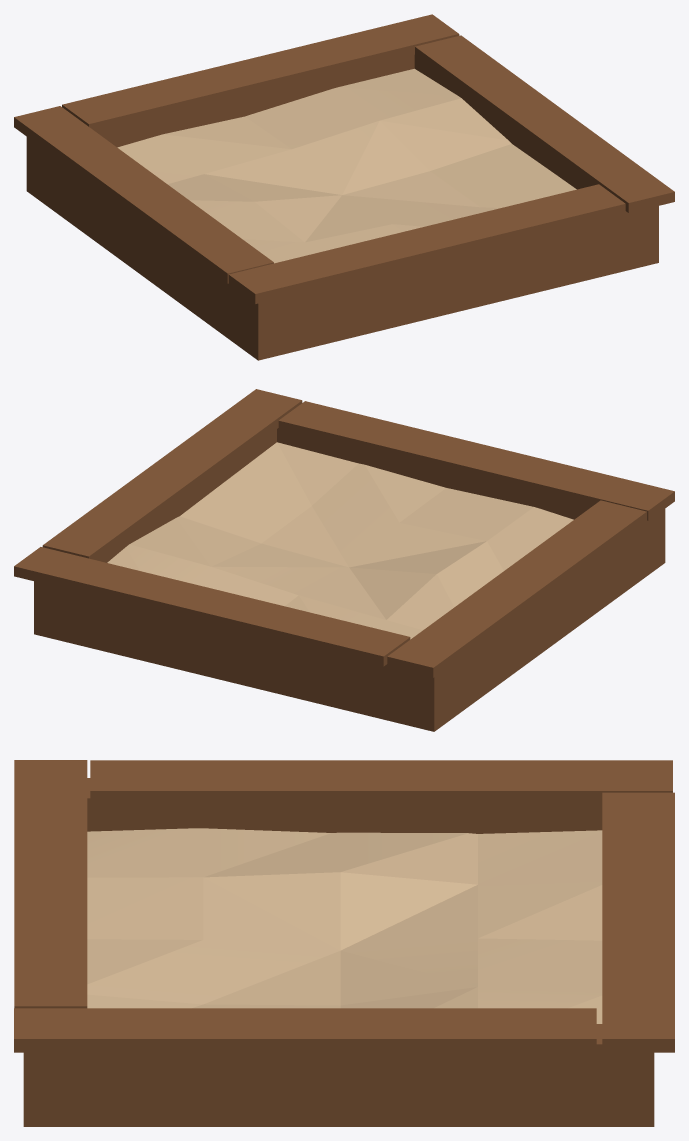
Rendered from props_sand-box.fbx.
3 renders of one model, top to bottom at view 1: azimuth 30°, elevation 25°; view 2: azimuth 150°, elevation 25°; view 3: azimuth 270°, elevation 25°, orthographic. The views are drawn at different scales.
Visible parts, largest first — view 1: props_sand_box; view 2: props_sand_box; view 3: props_sand_box.
Part boxes in pixels (x1,y1,x2,y2): props_sand_box: (14, 14, 674, 360); props_sand_box: (14, 389, 674, 731); props_sand_box: (14, 760, 674, 1126).
Bounding box in the file's own units: 200 × 32.13 × 200.
